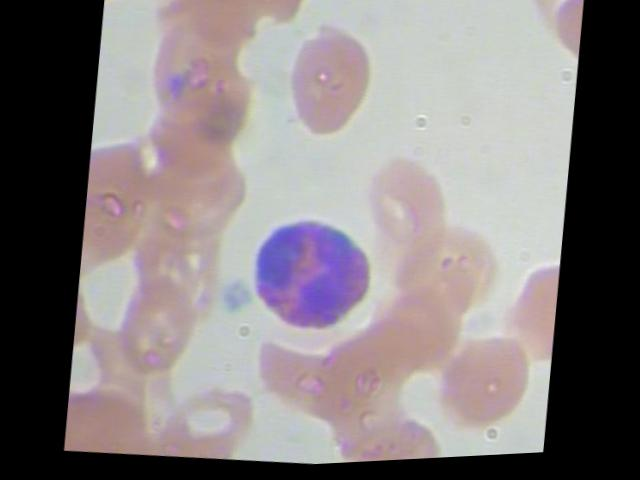Red Blood Cells: (240, 318, 361, 445), (385, 207, 505, 335), (280, 15, 385, 149), (347, 143, 451, 276), (428, 315, 532, 448), (135, 139, 251, 253), (140, 10, 244, 135), (103, 275, 200, 382), (155, 367, 256, 466), (62, 383, 151, 459), (341, 398, 441, 465), (515, 0, 585, 54)
White Blood Cells: (244, 210, 383, 346)
